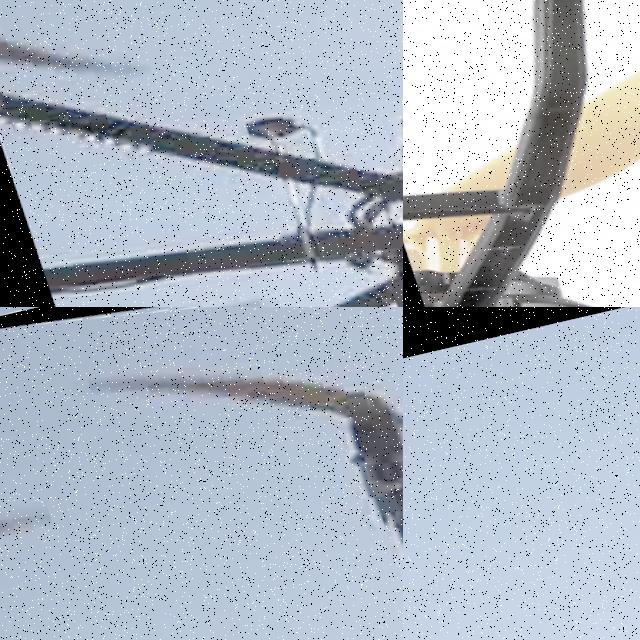0: (0, 307, 403, 640), (0, 0, 403, 307)
drone: (403, 0, 640, 307)
